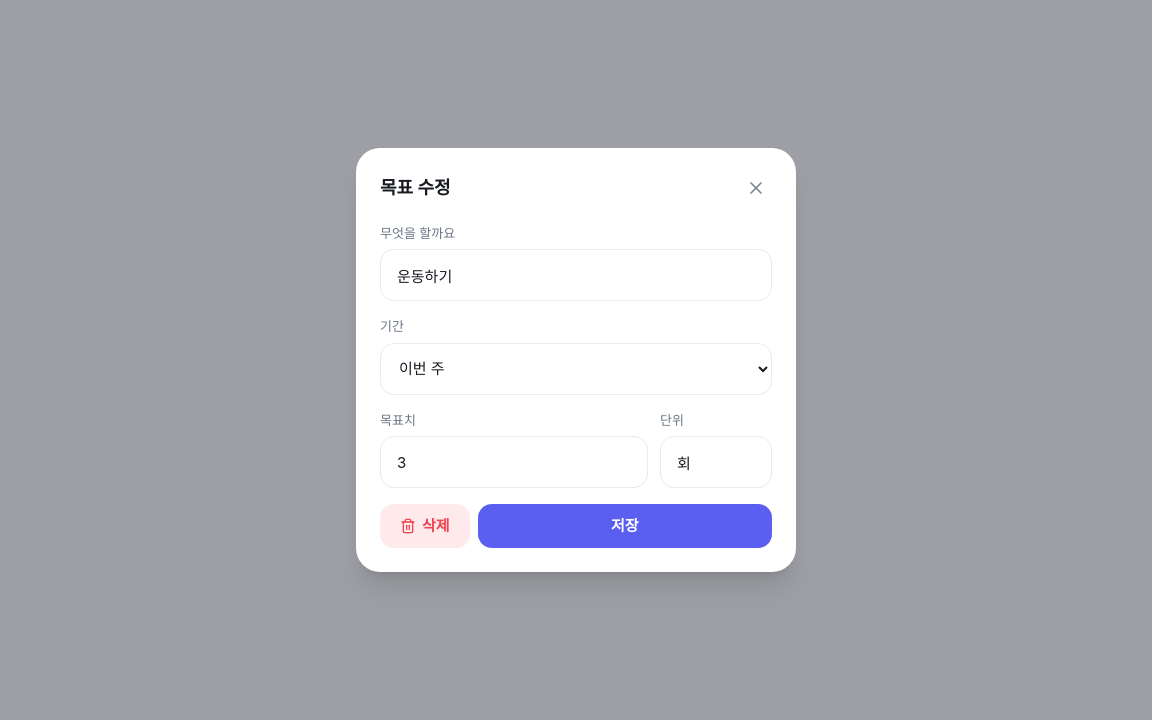
Test case: 기간을 바꾸면 › 진행이 사라진다고 미리 알린다
Expected: the text "0 부터 다시 시작" is not shown
Select "이번 달" in the dropdown labelled "기간" at (576, 369), box [380,343,772,395]
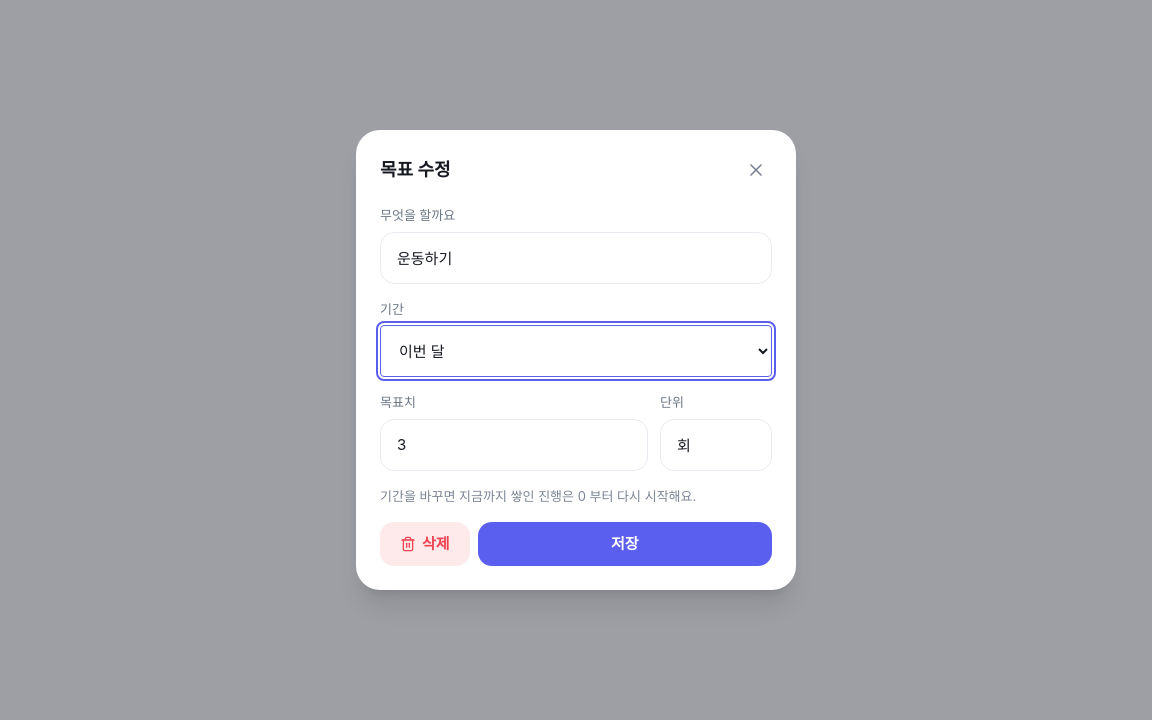
Expected: the text "기간을 바꾸면 지금까지 쌓인 진행은 0 부터 다시 시작해요." is shown, [380,488,696,504]
